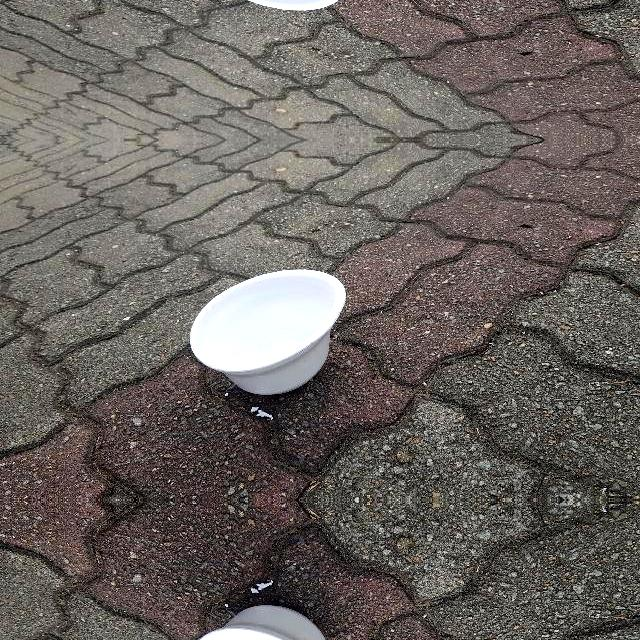Styrofoam: (189, 269, 346, 395), (190, 270, 344, 396), (190, 604, 344, 640), (198, 605, 326, 640)
